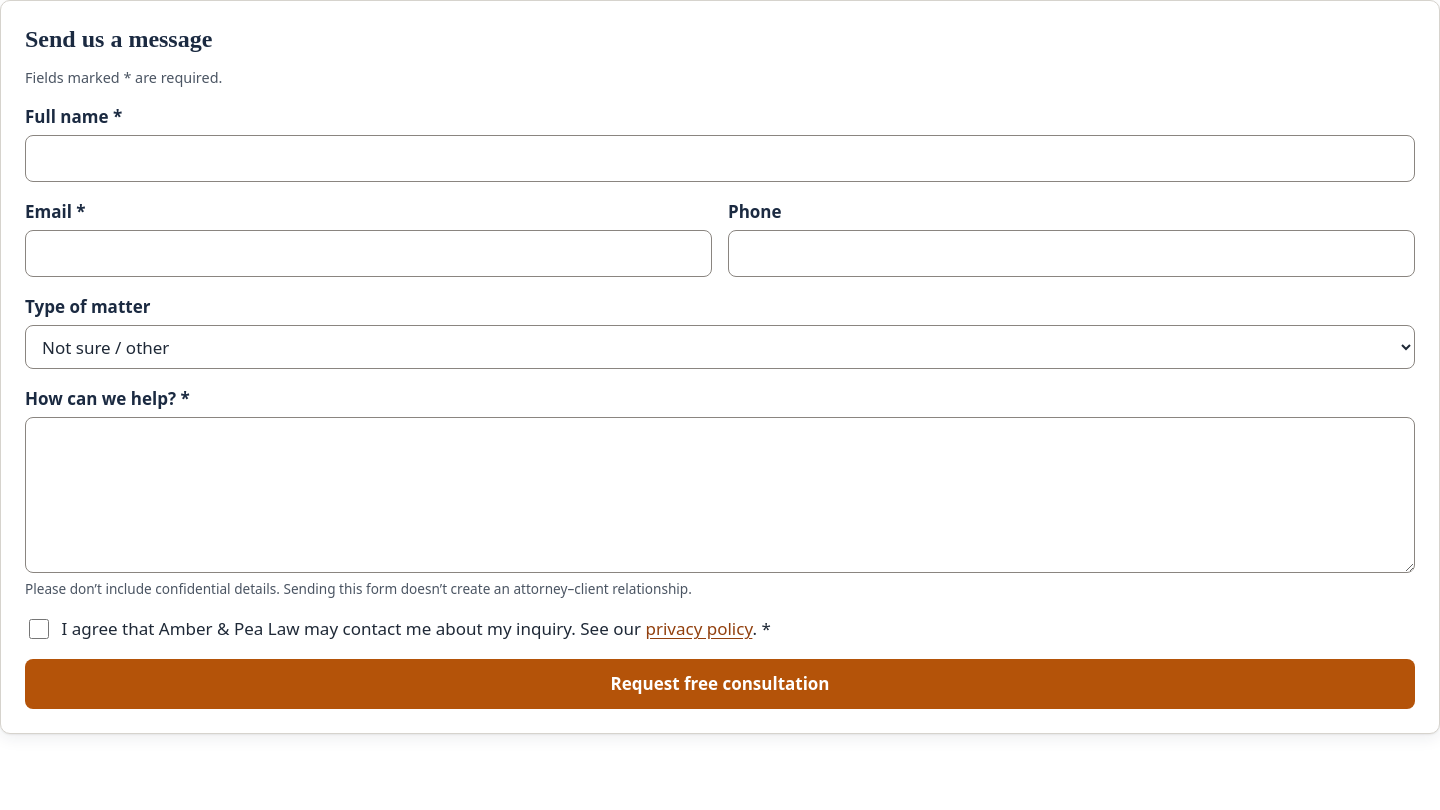
Test case: LeadForm › shows server-side field errors
The width and height of the screenshot is (1440, 810).
In the field labelled "Full name *": (720, 159) top-left (25, 135), bottom-right (1415, 182), type "Jane"
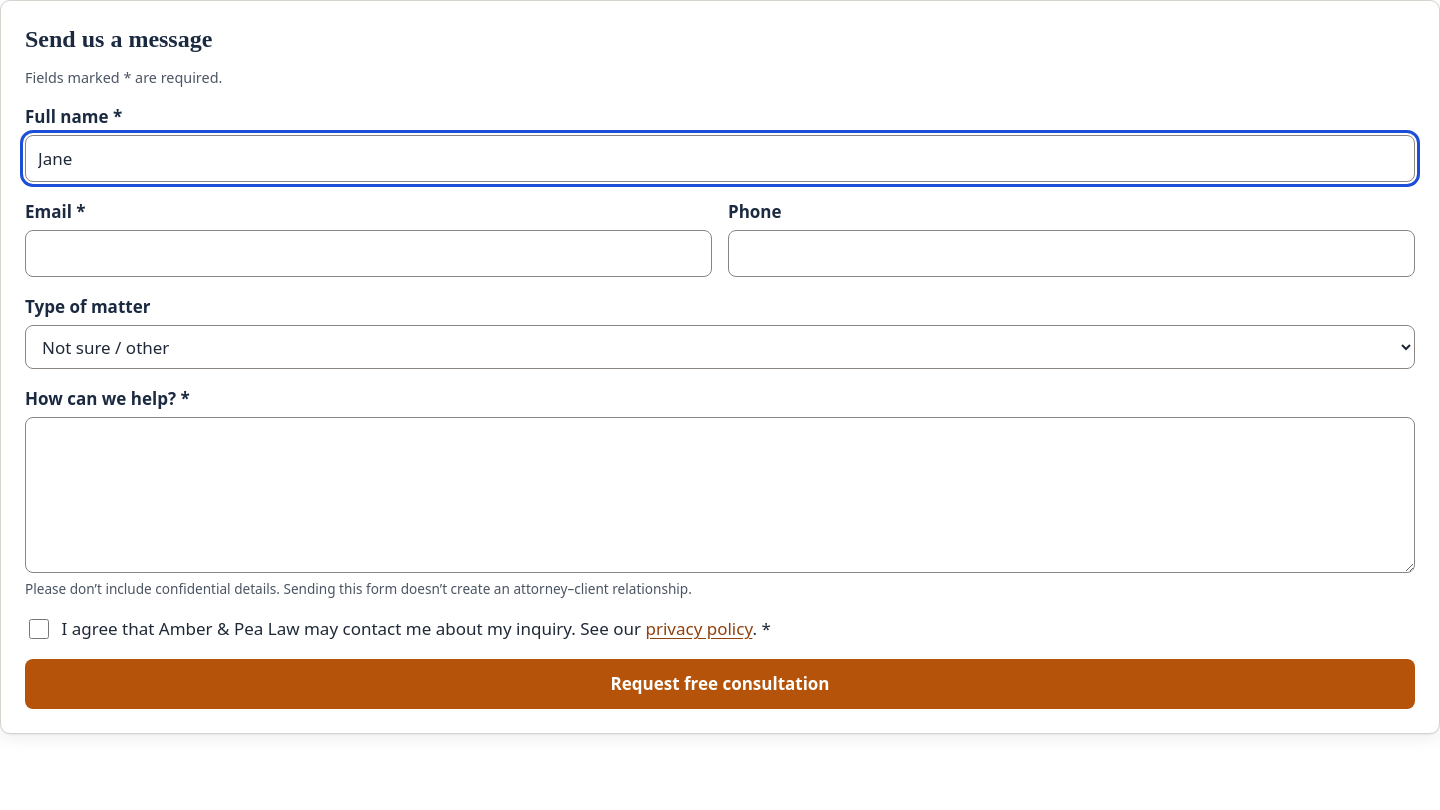
In the field labelled "Email *": (368, 253) top-left (25, 230), bottom-right (712, 277), type "jane@example.com"
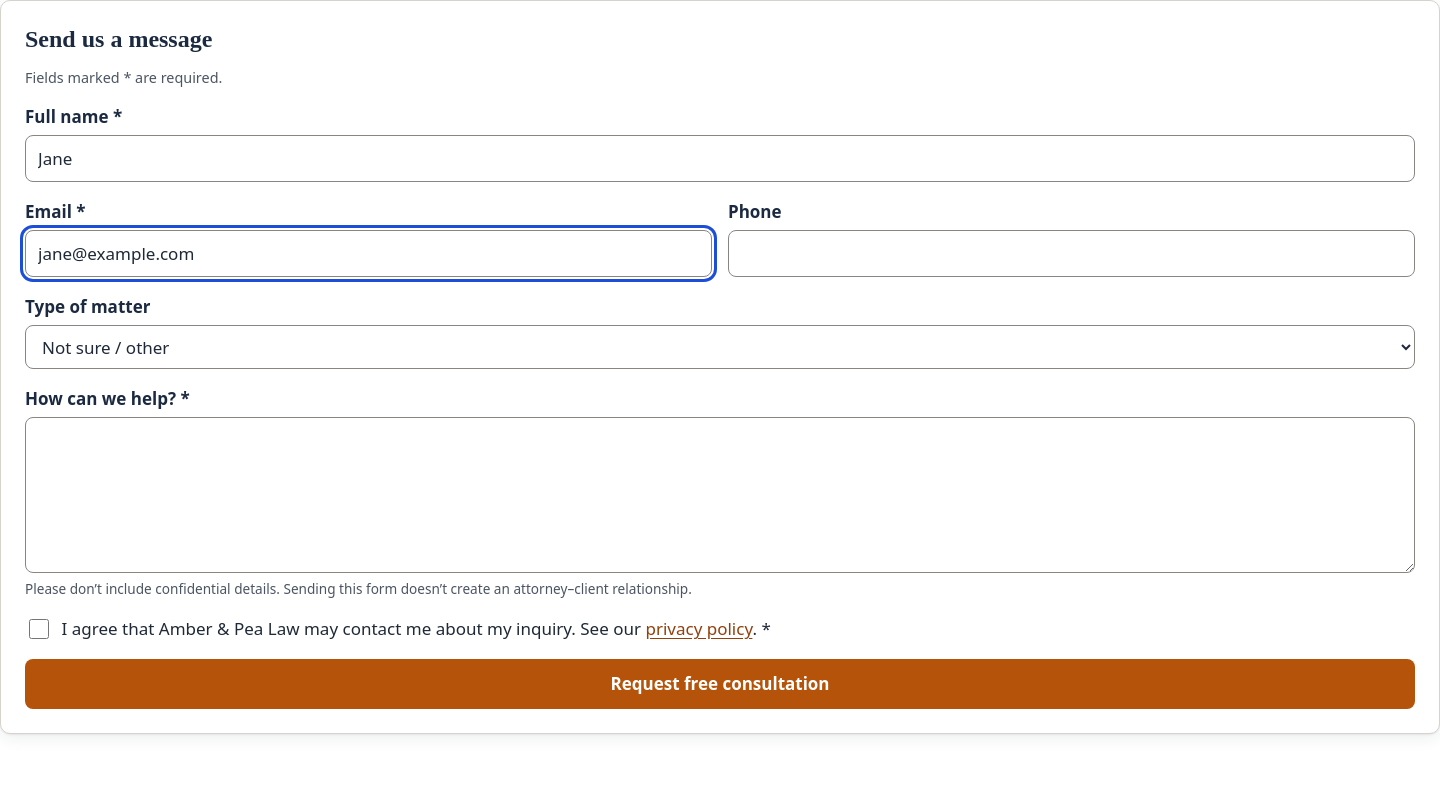
In the text box labelled "How can we help? *": (720, 495) top-left (25, 417), bottom-right (1415, 573), type "Hi"
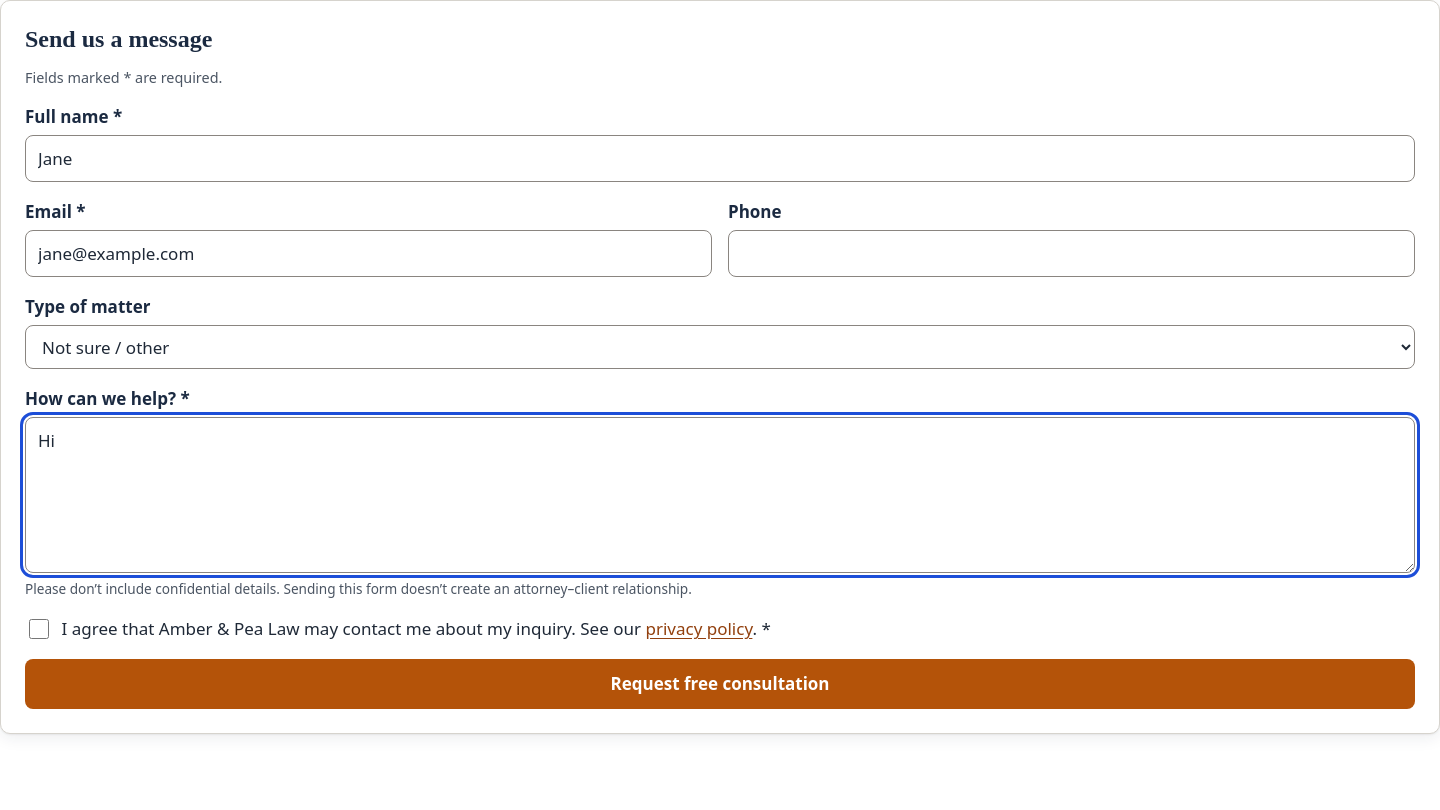
Click the checkbox labelled "may contact me": (39, 629) top-left (29, 619), bottom-right (49, 639)
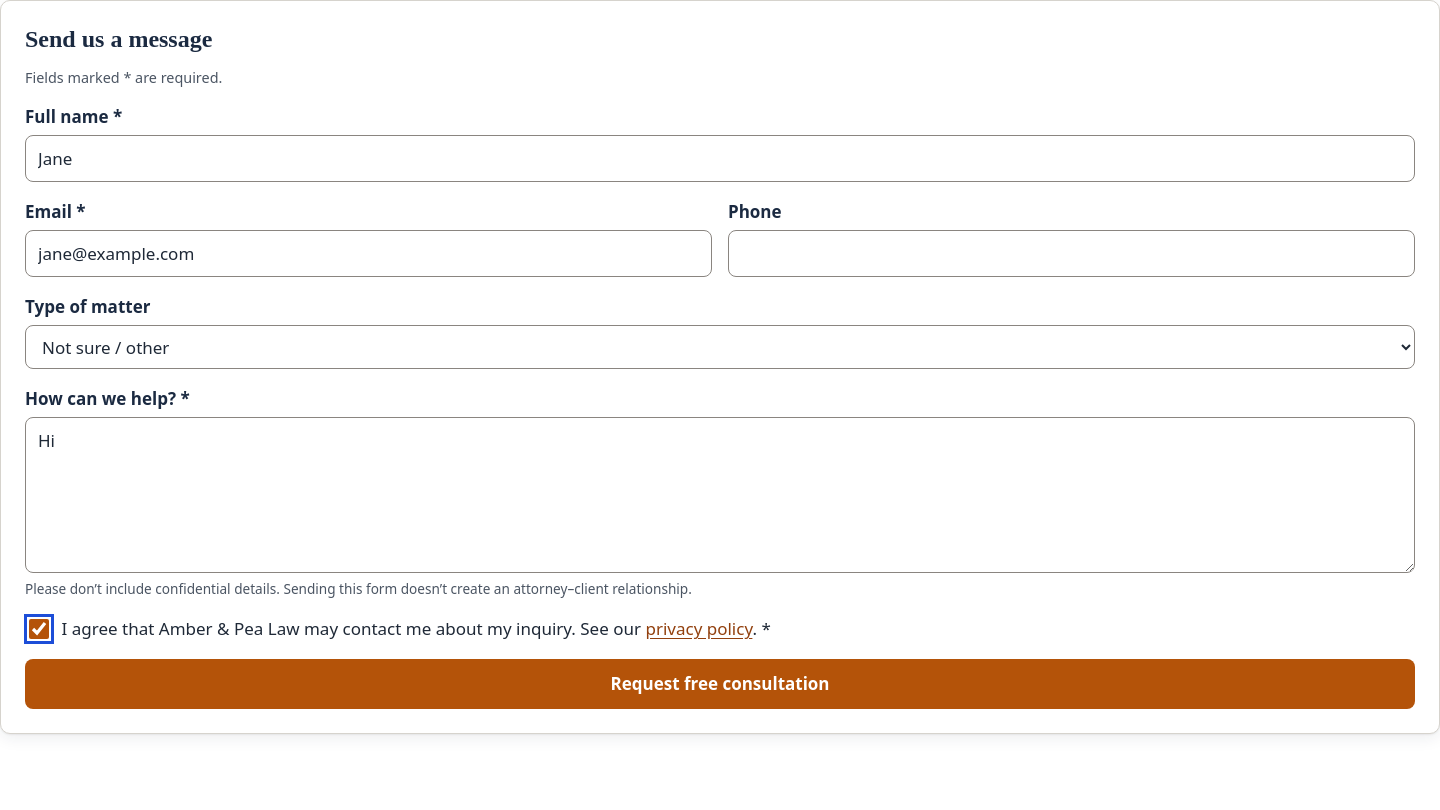
Click the button "Request free consultation": (720, 684) top-left (25, 659), bottom-right (1415, 709)
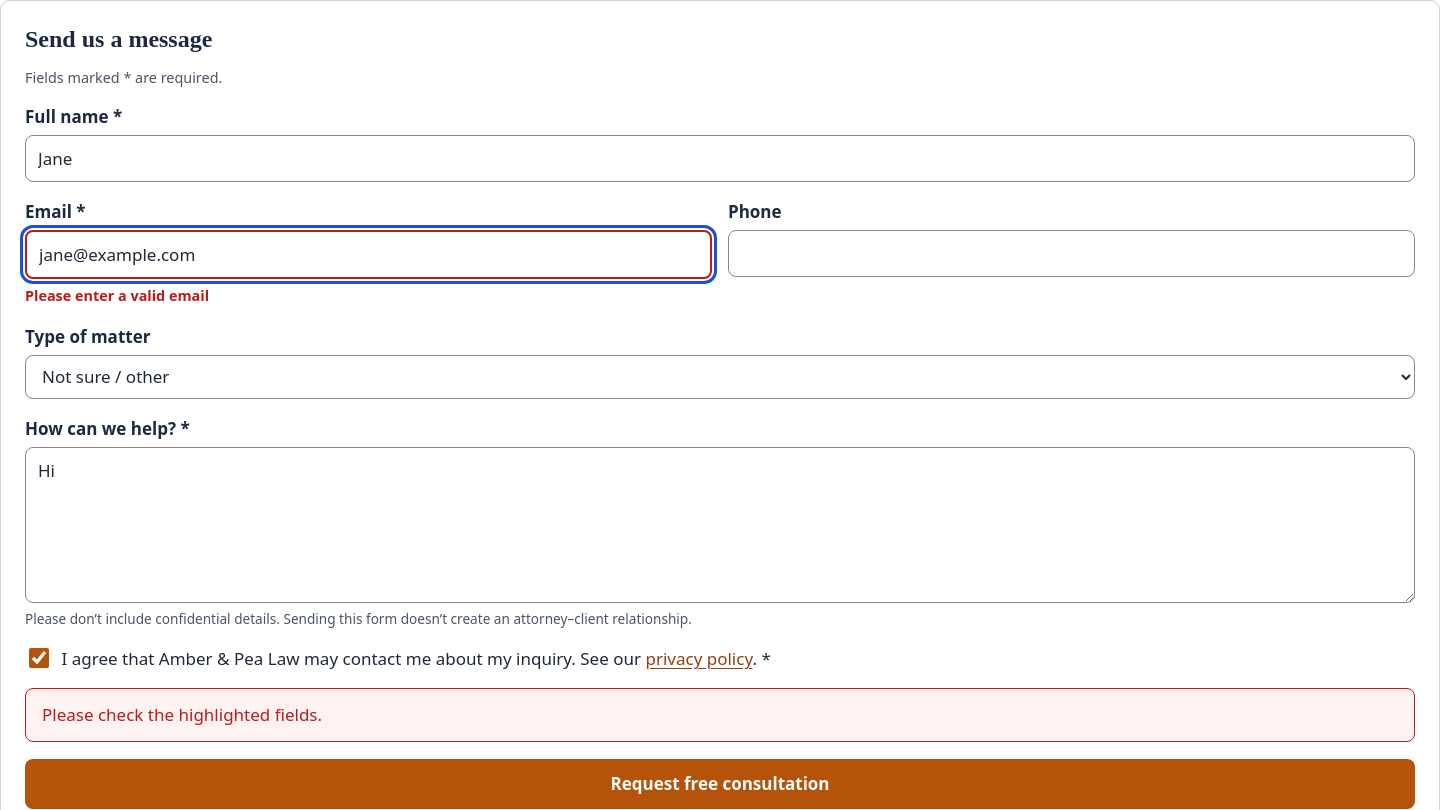
Check: the text "Please enter a valid email" is shown, box top-left (25, 286), bottom-right (209, 305)
Check: the message reads "Please check the highlighted fields.", box top-left (42, 703), bottom-right (322, 726)
